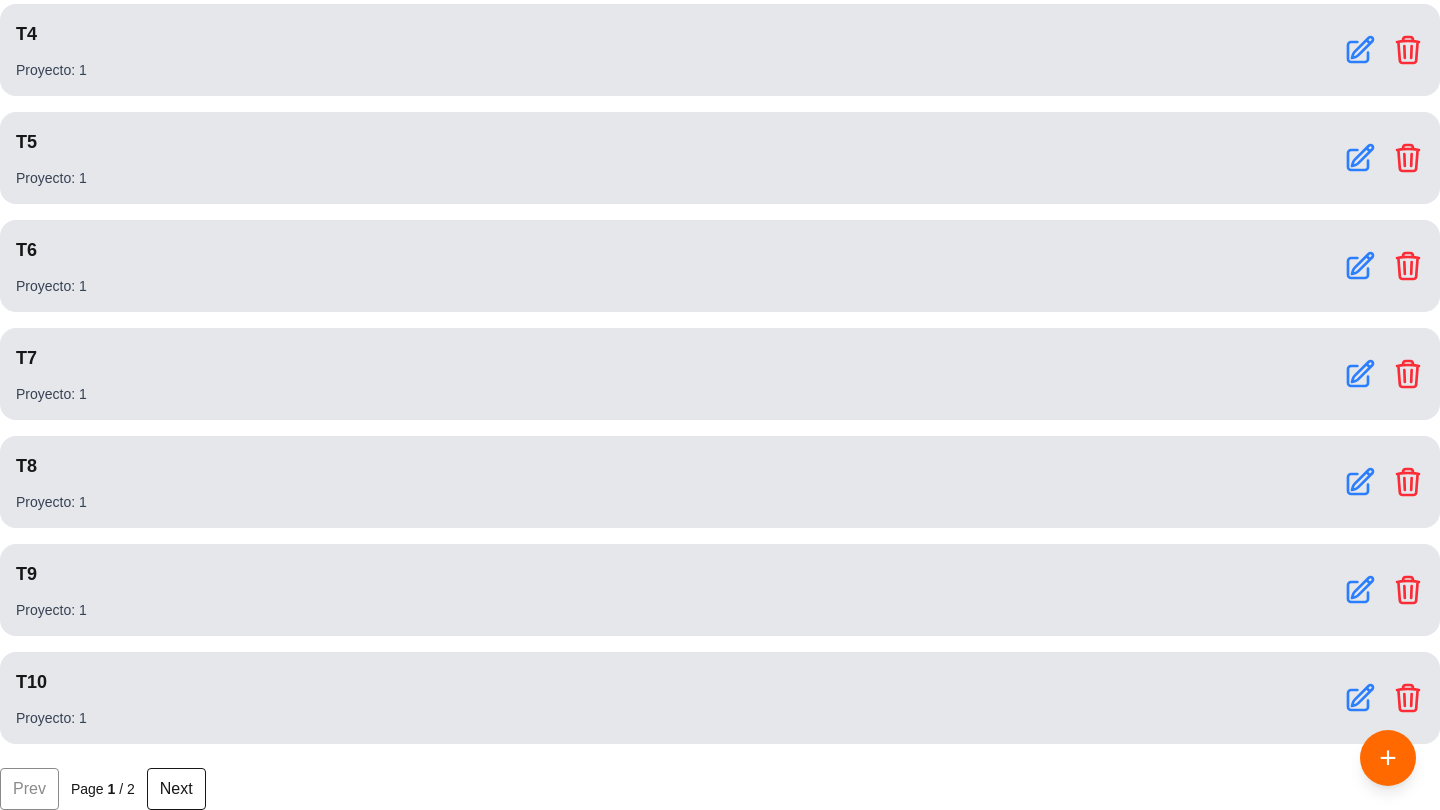
TasksPage - pagination behavior (server envelope) › goes next then back and requests correct pageNumber/pageSize
The width and height of the screenshot is (1440, 810).
(page scrolled)
Click the button with aria-label "Next page": (176,789) top-left (147, 768), bottom-right (206, 809)
(page scrolled)
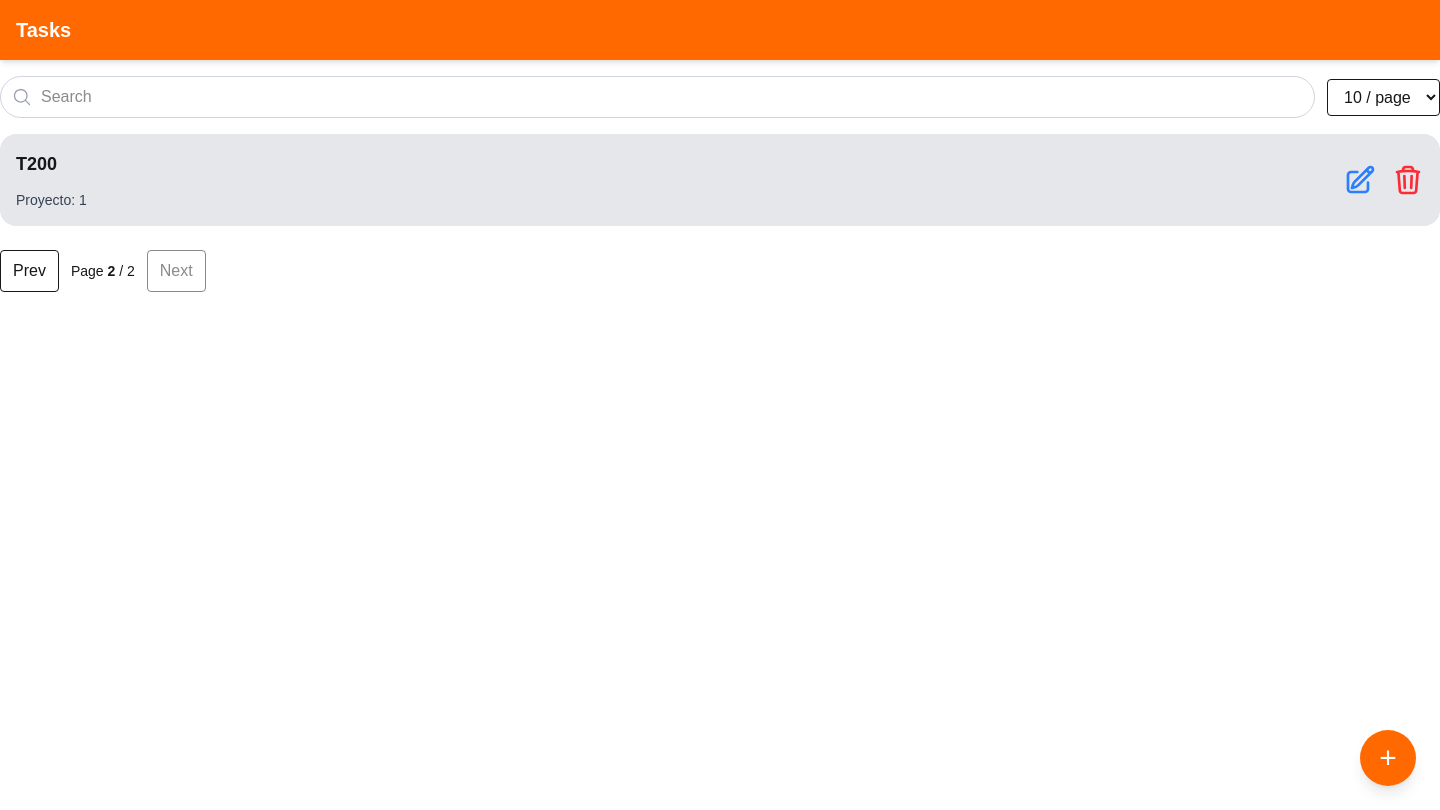
Result: the heading "T200" is shown at top-left (16, 154), bottom-right (57, 174)
Result: the button with aria-label "Next page" is disabled at top-left (147, 250), bottom-right (206, 292)
Click the button with aria-label "Prev page": (29,271) top-left (0, 250), bottom-right (59, 292)
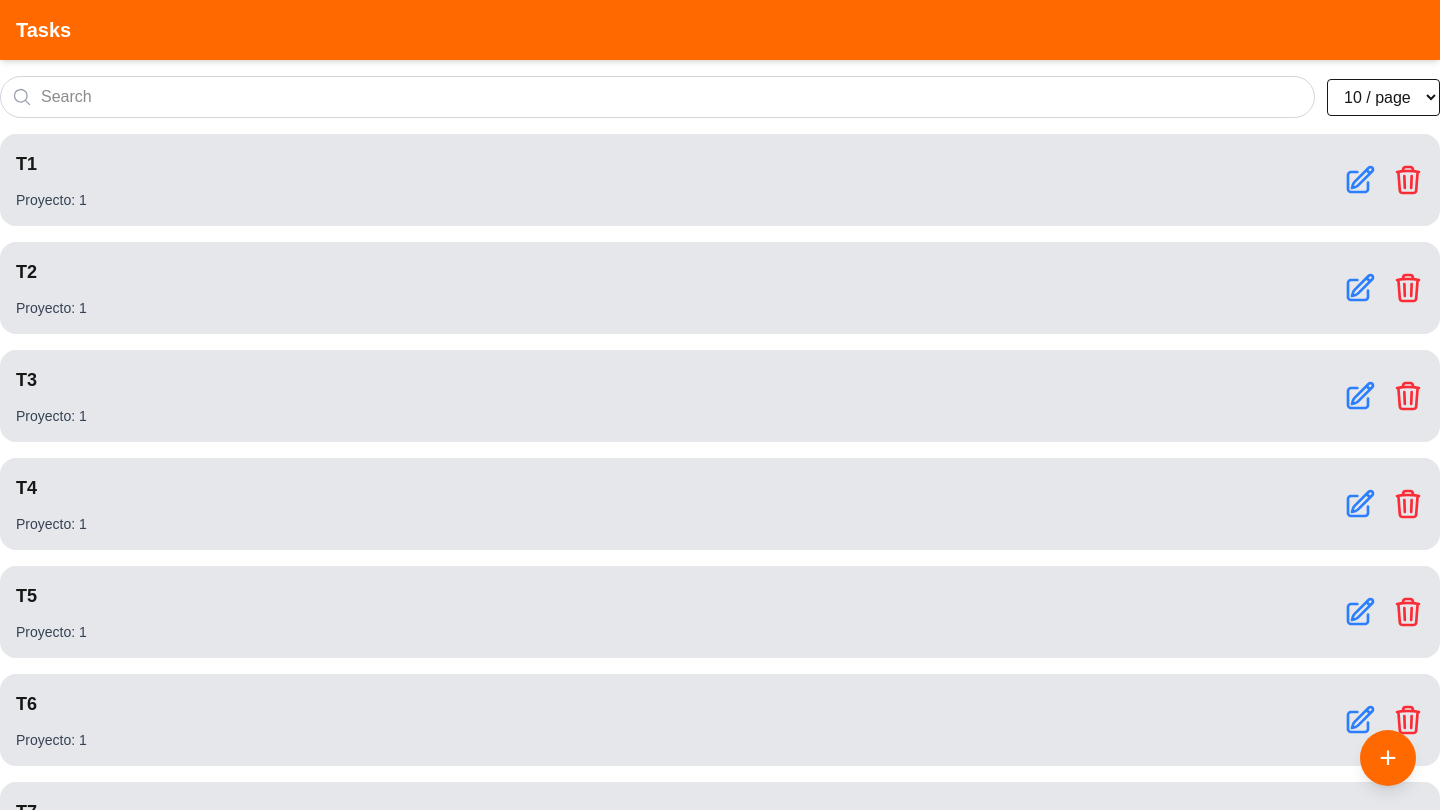
Result: the heading "T1" is shown at top-left (16, 154), bottom-right (37, 174)
